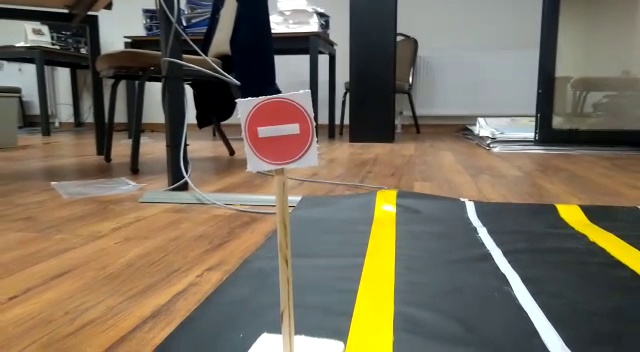girisi_olmayan_yol: (243, 84, 317, 166)
